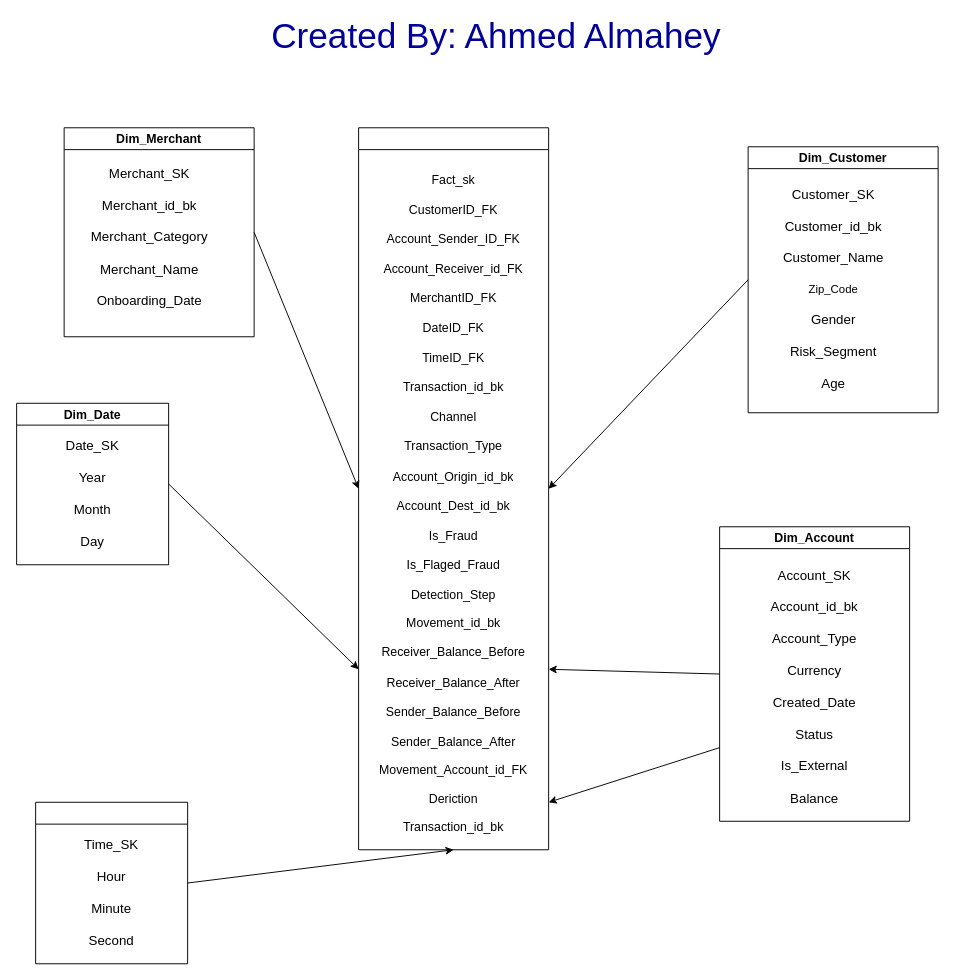
Image size: 955x980. Some labels were removed from this diagram. Each missing label, with the box of its shape:
Dim_Time: (35, 801, 188, 964)
FACT_Transactions: (358, 127, 549, 850)
